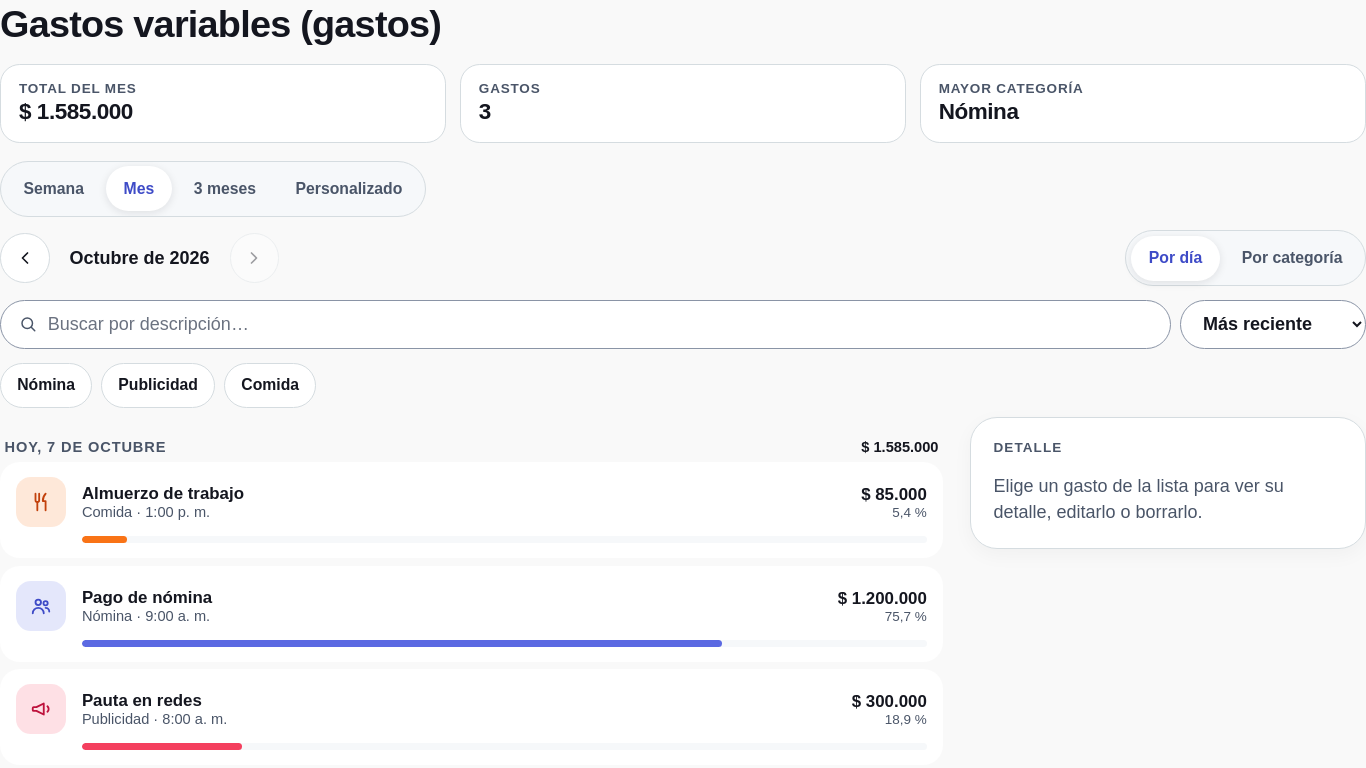
Test case: PaginaLista › cambia de período: semana, 3 meses y personalizado
This screenshot has width=1366, height=768.
Click the button "Semana" at (54, 188), box [6, 166, 102, 211]
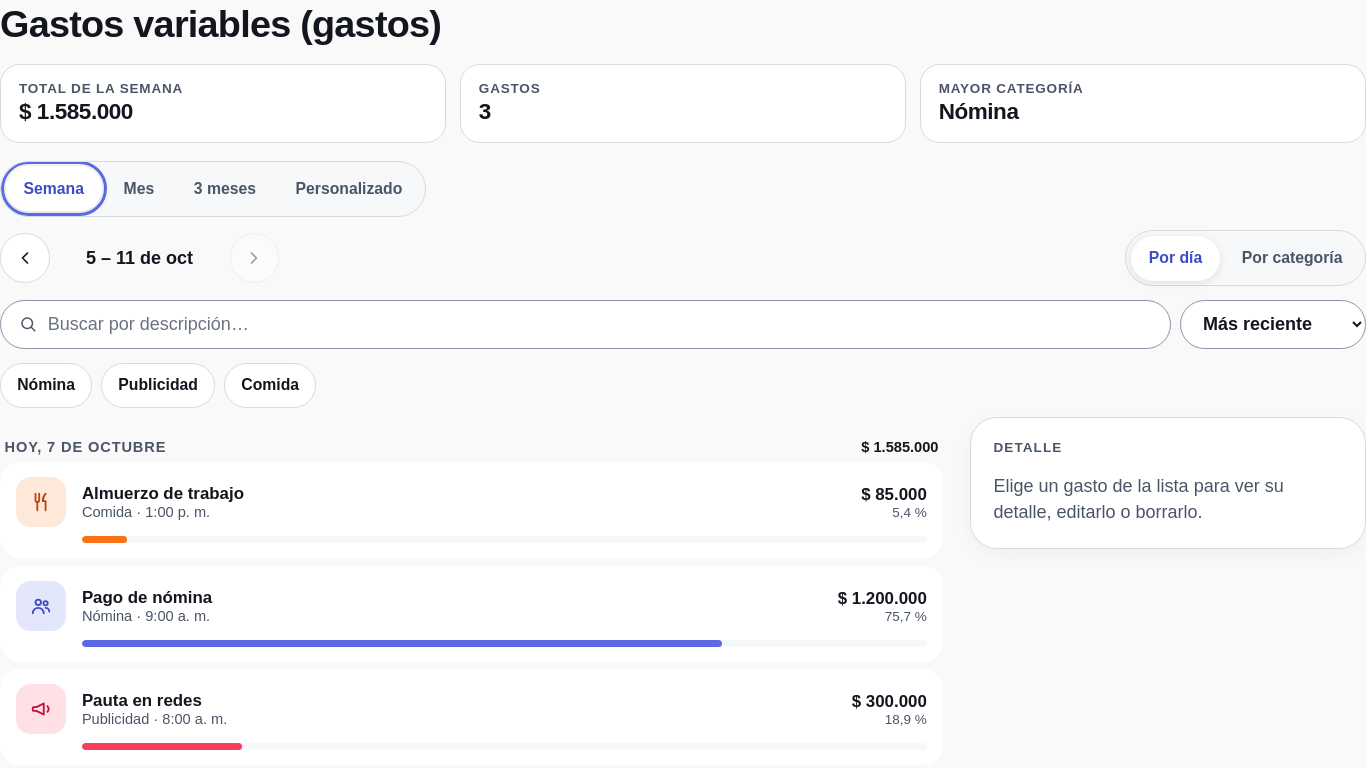
Expected: the button named "Semana siguiente" is disabled, [230, 233, 279, 283]
Expected: the element named "Resumen de la semana" is shown, [0, 64, 1365, 143]
Click the button named "Semana anterior" at (25, 258), box [0, 233, 50, 283]
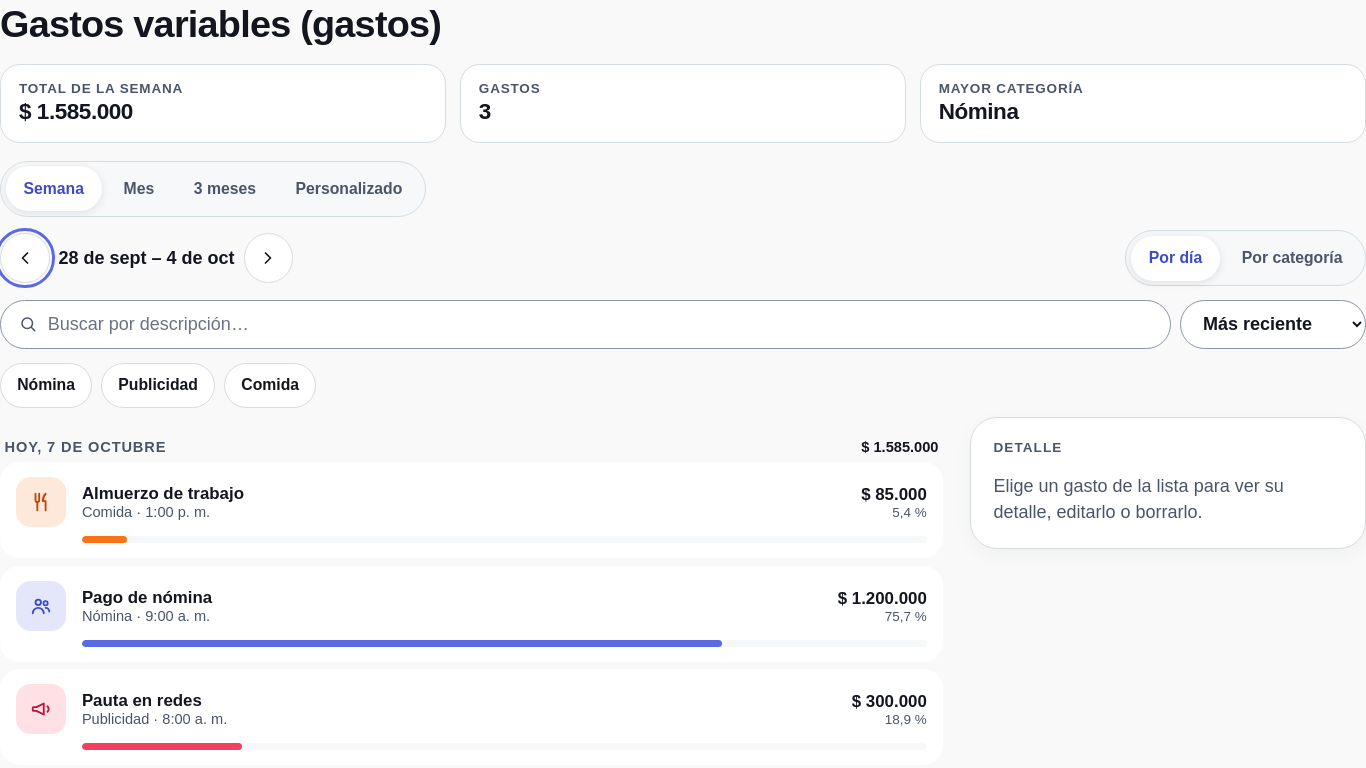
Expected: the button named "Semana siguiente" is enabled, [244, 233, 293, 283]
Click the button "3 meses" at (225, 188), box [176, 166, 274, 211]
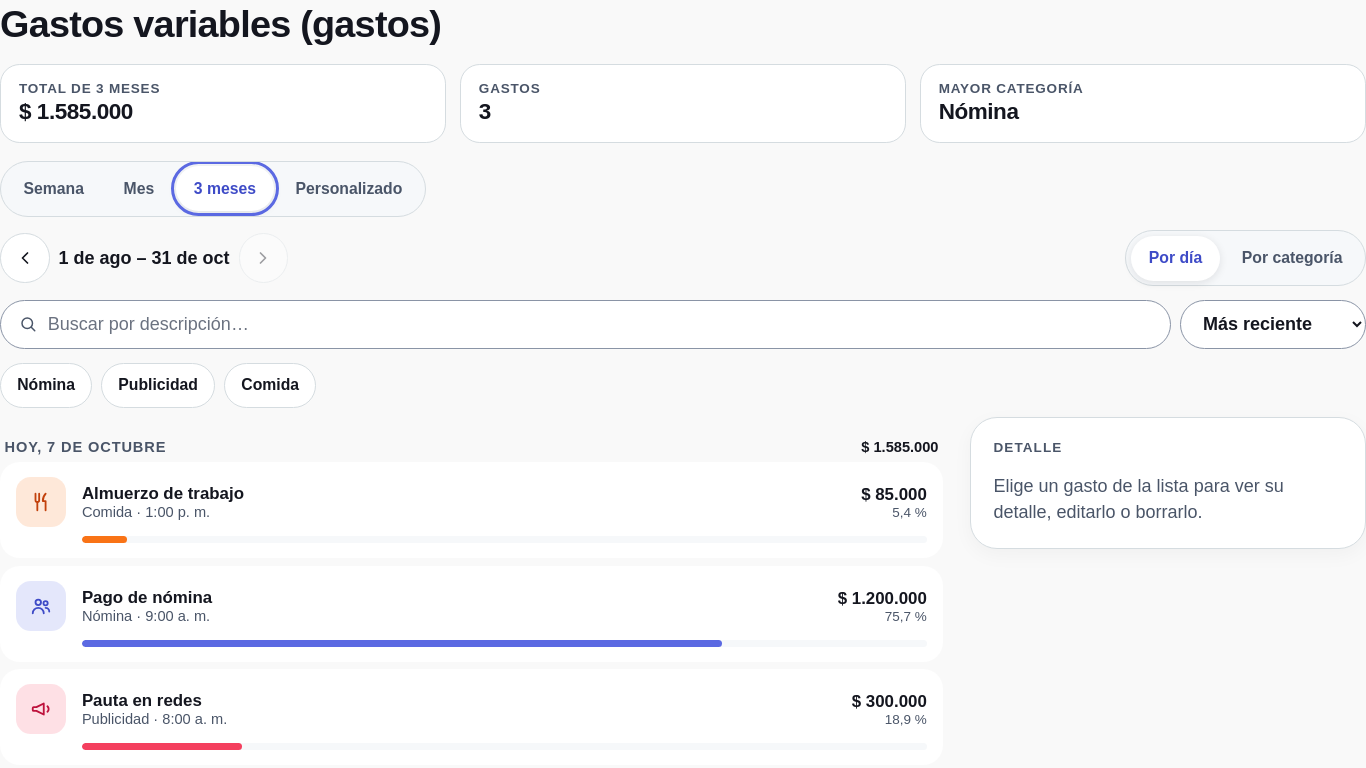
Expected: the element named "Resumen de 3 meses" is shown, [0, 64, 1365, 143]
Click the button "Personalizado" at (349, 188), box [278, 166, 420, 211]
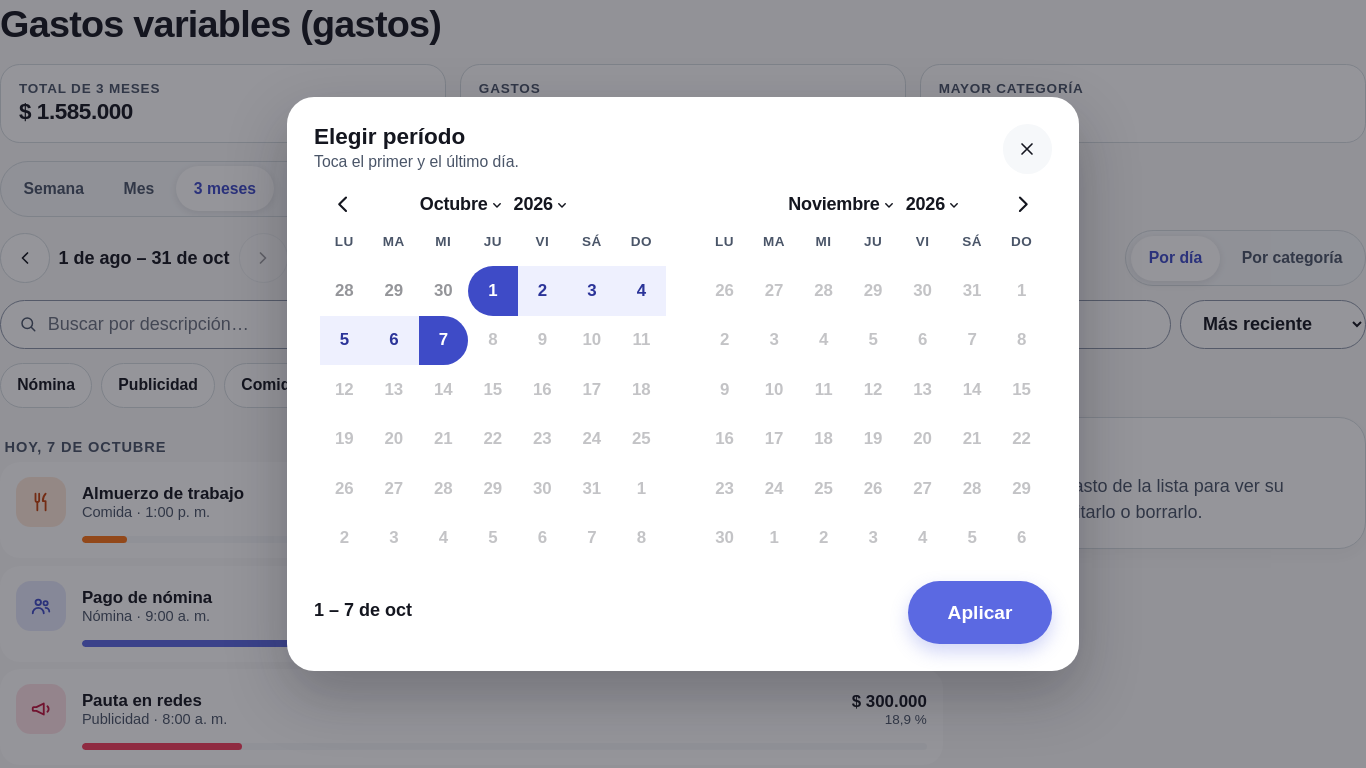
Expected: the button "Aplicar" is enabled
Click the button "Aplicar" at (980, 612), box [908, 581, 1052, 644]
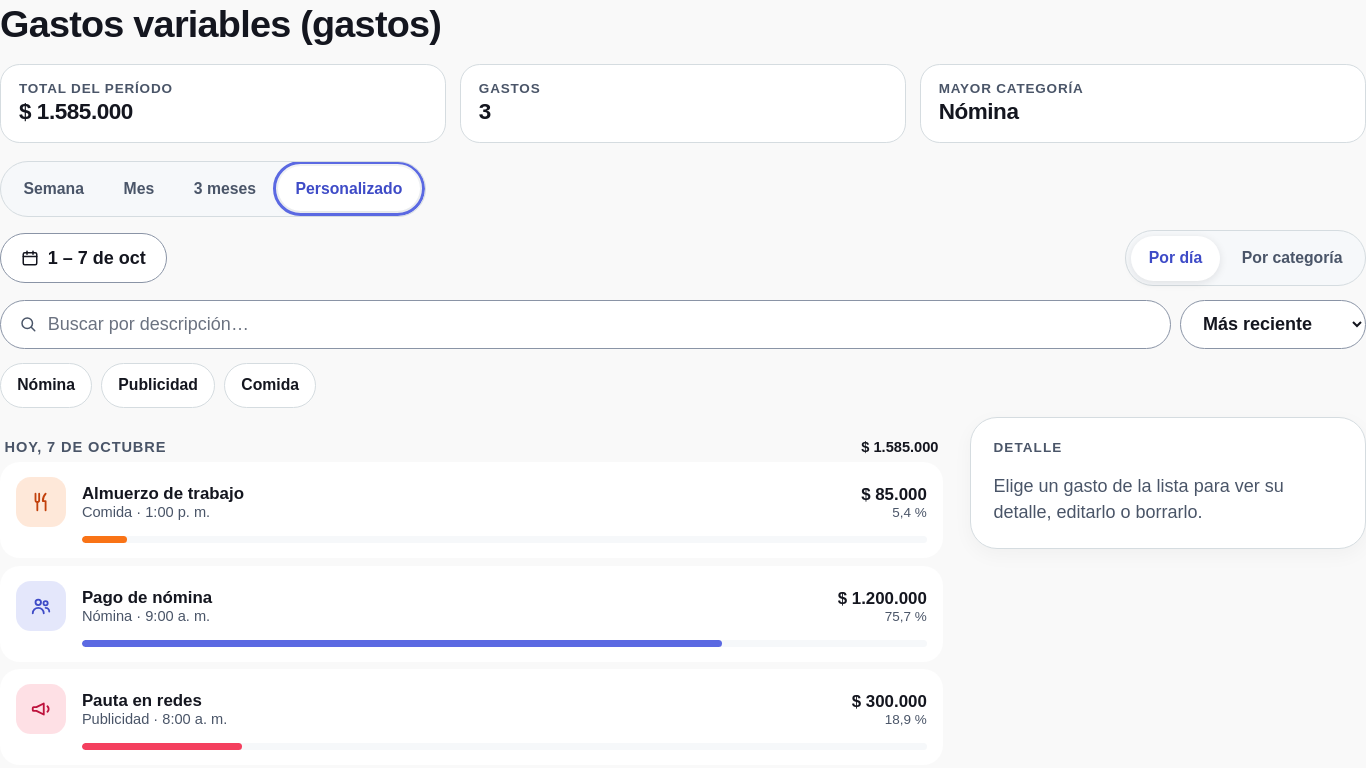
Expected: the heading "Elegir período" is gone
Expected: the element named "Resumen del período" is shown, [0, 64, 1365, 143]
